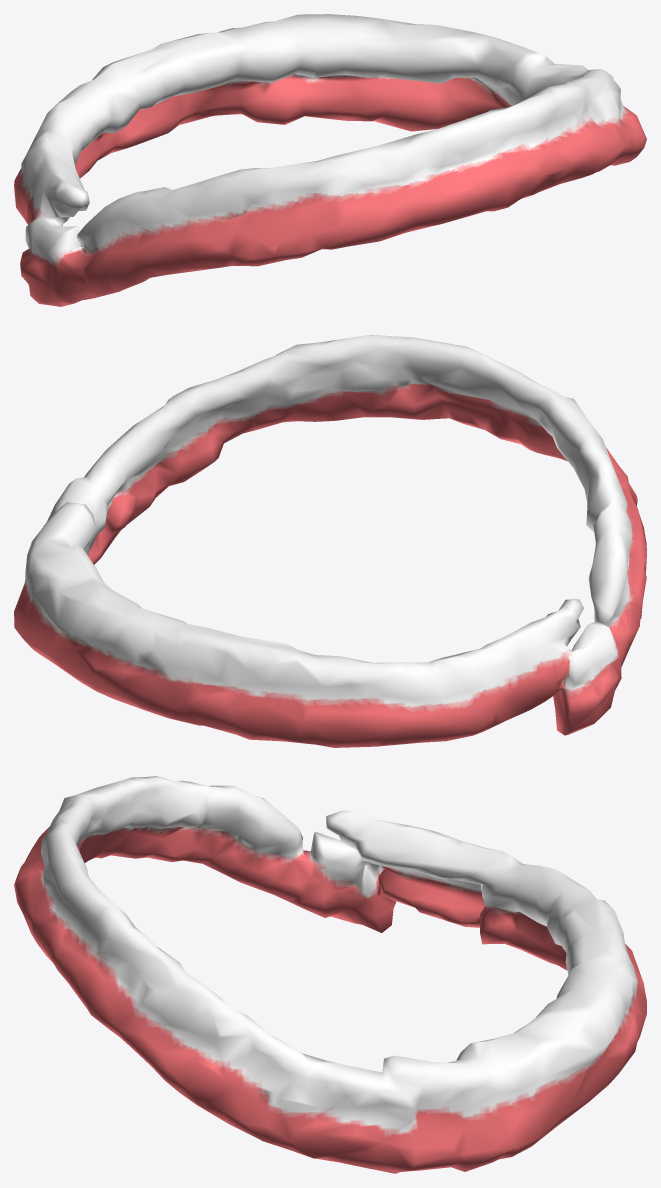
File: headband pink-white.glb
3 views of the same model, one above another, from view 1: azimuth 30°, elevation 25°; view 2: azimuth 150°, elevation 25°; view 3: azimuth 270°, elevation 25° (orthographic). The views are drawn at different scales.
Visible parts, largest first — view 1: headband_pink_white.001; view 2: headband_pink_white.001; view 3: headband_pink_white.001.
Boxes of the visible parts, x1,y1,x2,y2 form: headband_pink_white.001: (14, 14, 646, 306); headband_pink_white.001: (14, 335, 646, 747); headband_pink_white.001: (14, 776, 646, 1173).
Size of the model in its own units: 0.3699 by 0.1375 by 0.3435.
Materials: 1 (1 with a texture image).
